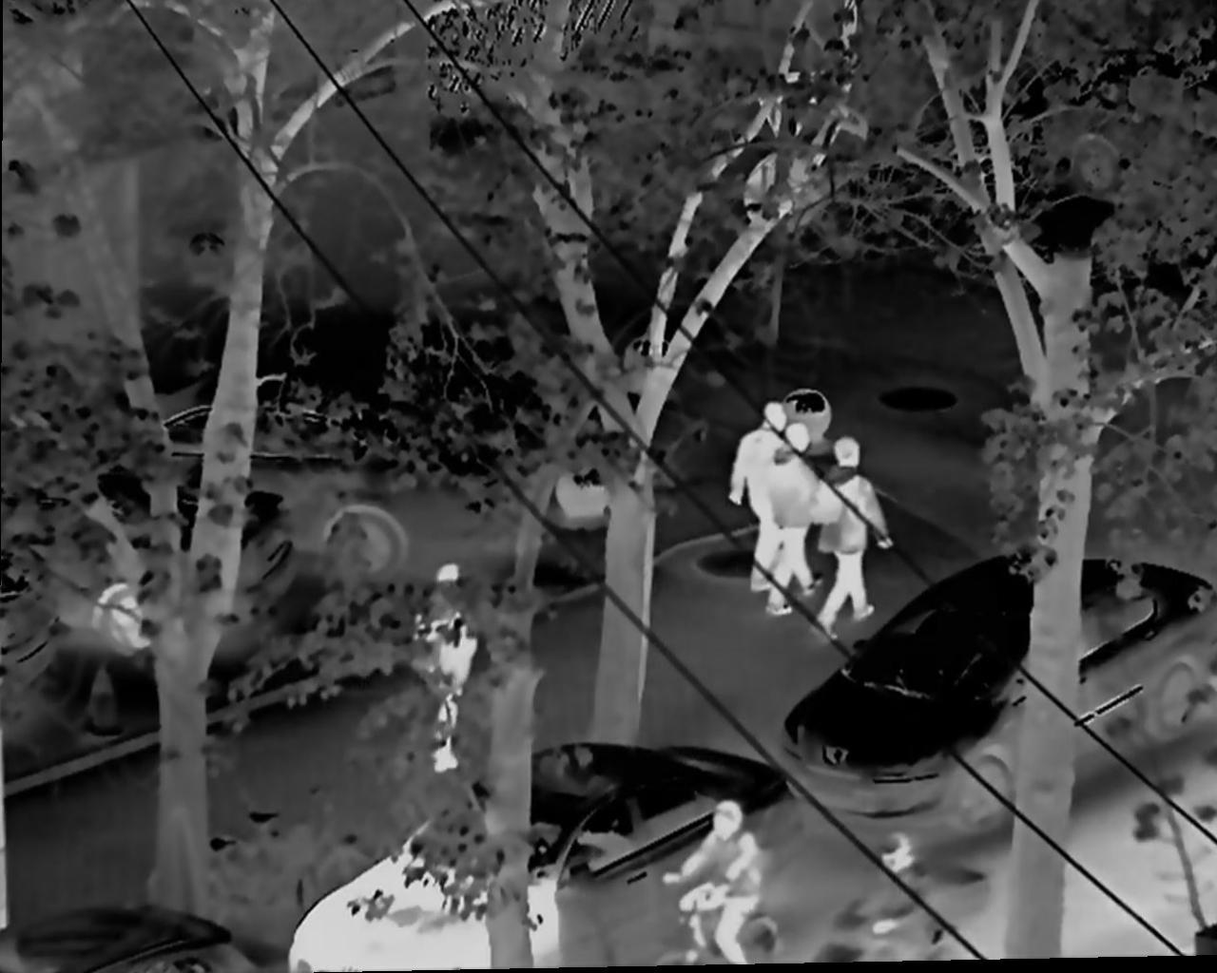person: (665, 800, 761, 973), (820, 433, 889, 642), (763, 424, 826, 616), (724, 401, 784, 589), (415, 620, 476, 773)
